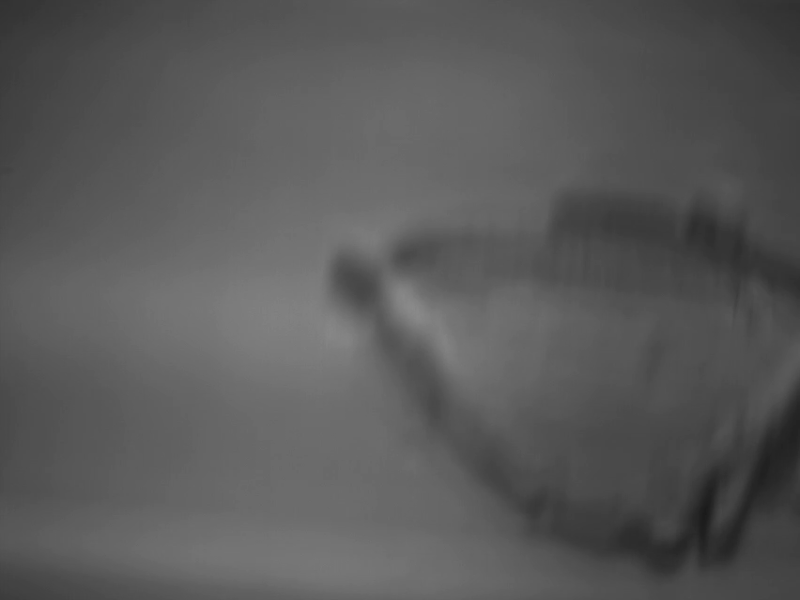fiber: (325, 180, 800, 579)
